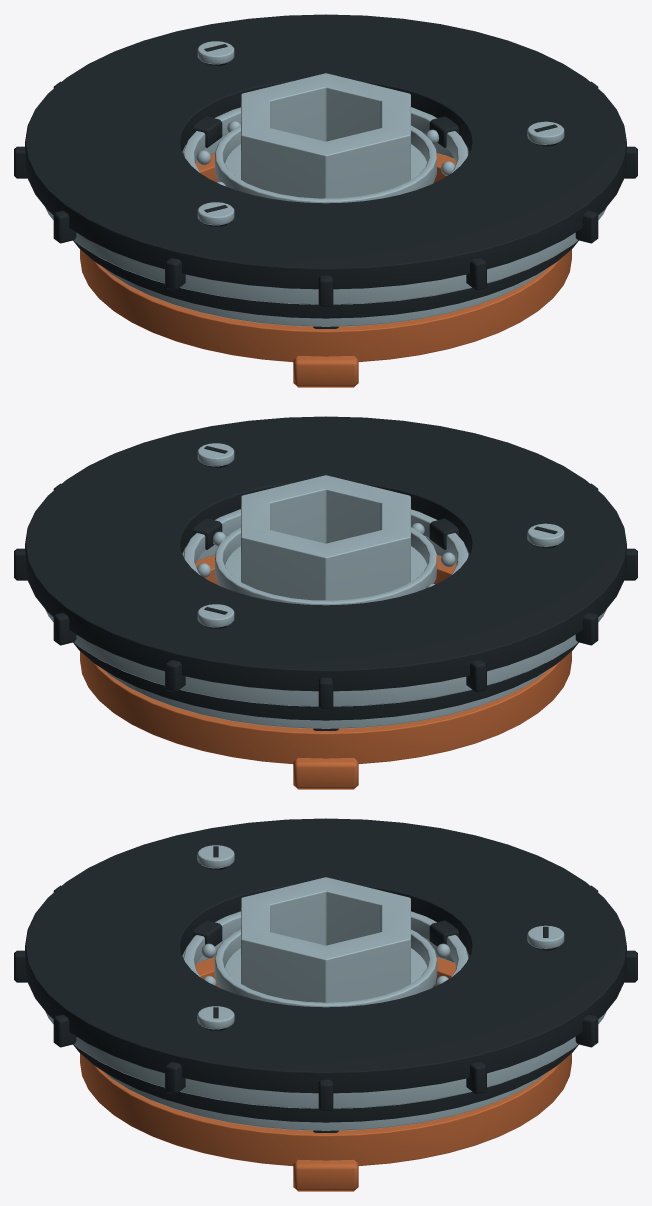
3 renders of one model, top to bottom at view 1: azimuth 30°, elevation 25°; view 2: azimuth 150°, elevation 25°; view 3: azimuth 270°, elevation 25°, orthographic.
Visible parts, largest first — view 1: Export_C02_stationary_housing__Launcher_Graphite_POM__fixed_, Export_C02_coupler_rotor__Launcher_Brushed_Steel__rotating_s, Export_C02_coupler_rotor__Performance_Copper_Anodized__rotat, Export_C02_stationary_housing__Launcher_Brushed_Steel__fixed, Export_C02_release_cam__Launcher_Brushed_Steel__release_cam, Export_C02_release_jaw_1__Performance_Copper_Anodized__relea; view 2: Export_C02_stationary_housing__Launcher_Graphite_POM__fixed_, Export_C02_coupler_rotor__Launcher_Brushed_Steel__rotating_s, Export_C02_coupler_rotor__Performance_Copper_Anodized__rotat, Export_C02_stationary_housing__Launcher_Brushed_Steel__fixed, Export_C02_release_cam__Launcher_Brushed_Steel__release_cam, Export_C02_release_jaw_2__Performance_Copper_Anodized__relea; view 3: Export_C02_stationary_housing__Launcher_Graphite_POM__fixed_, Export_C02_coupler_rotor__Launcher_Brushed_Steel__rotating_s, Export_C02_coupler_rotor__Performance_Copper_Anodized__rotat, Export_C02_stationary_housing__Launcher_Brushed_Steel__fixed, Export_C02_release_cam__Launcher_Brushed_Steel__release_cam, Export_C02_release_jaw_0__Performance_Copper_Anodized__relea.
Boxes of the visible parts, x1,y1,x2,y2 form: Export_C02_stationary_housing__Launcher_Graphite_POM__fixed_: [14, 14, 637, 318]; Export_C02_coupler_rotor__Launcher_Brushed_Steel__rotating_s: [224, 73, 427, 361]; Export_C02_coupler_rotor__Performance_Copper_Anodized__rotat: [80, 153, 571, 361]; Export_C02_stationary_housing__Launcher_Brushed_Steel__fixed: [45, 41, 606, 304]; Export_C02_release_cam__Launcher_Brushed_Steel__release_cam: [103, 133, 548, 326]; Export_C02_release_jaw_1__Performance_Copper_Anodized__relea: [293, 355, 358, 387]; Export_C02_stationary_housing__Launcher_Graphite_POM__fixed_: [14, 416, 637, 720]; Export_C02_coupler_rotor__Launcher_Brushed_Steel__rotating_s: [224, 475, 427, 763]; Export_C02_coupler_rotor__Performance_Copper_Anodized__rotat: [80, 555, 571, 763]; Export_C02_stationary_housing__Launcher_Brushed_Steel__fixed: [45, 443, 606, 706]; Export_C02_release_cam__Launcher_Brushed_Steel__release_cam: [103, 535, 548, 728]; Export_C02_release_jaw_2__Performance_Copper_Anodized__relea: [293, 757, 358, 789]; Export_C02_stationary_housing__Launcher_Graphite_POM__fixed_: [14, 818, 637, 1122]; Export_C02_coupler_rotor__Launcher_Brushed_Steel__rotating_s: [224, 877, 427, 1165]; Export_C02_coupler_rotor__Performance_Copper_Anodized__rotat: [80, 957, 571, 1165]; Export_C02_stationary_housing__Launcher_Brushed_Steel__fixed: [45, 845, 606, 1108]; Export_C02_release_cam__Launcher_Brushed_Steel__release_cam: [103, 938, 548, 1130]; Export_C02_release_jaw_0__Performance_Copper_Anodized__relea: [293, 1159, 358, 1191].
Size of the model in its own units: 0.908 by 0.2675 by 0.908.
